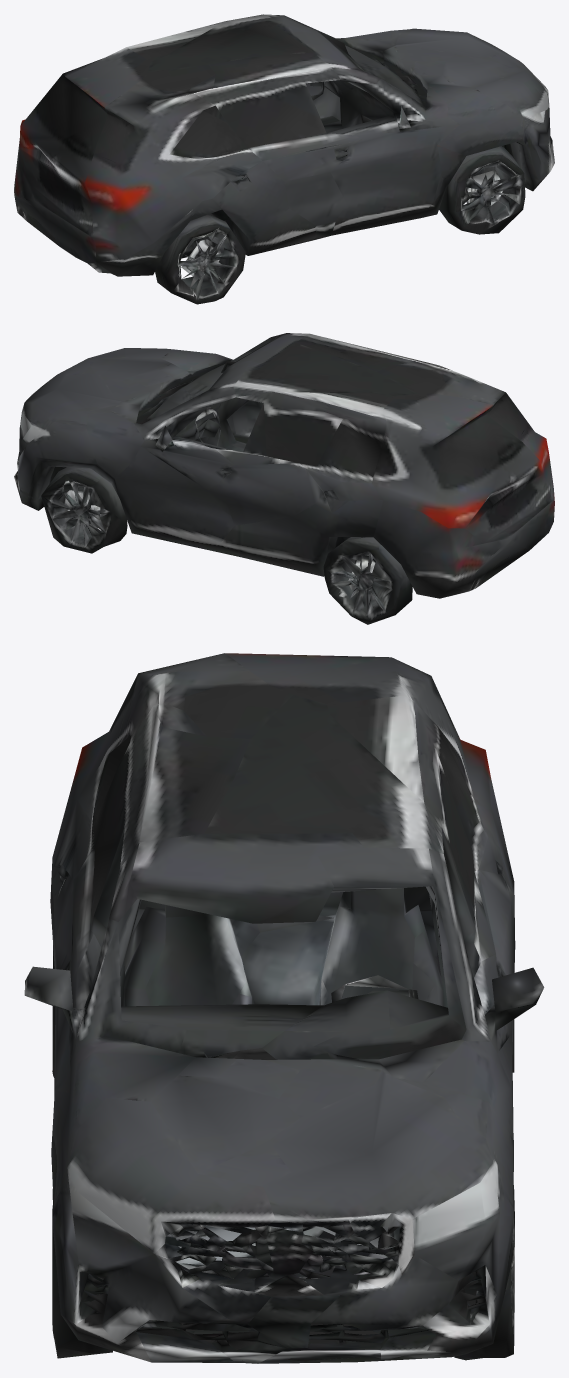
The model's file is car-suv-lod.glb.
3 views of the same model, one above another, from view 1: azimuth 30°, elevation 25°; view 2: azimuth 150°, elevation 25°; view 3: azimuth 270°, elevation 25° (orthographic). The views are drawn at different scales.
Visible parts, largest first — view 1: tripo_node_dad4ae34-9917-4c7d-b655-1cde7af19d59; view 2: tripo_node_dad4ae34-9917-4c7d-b655-1cde7af19d59; view 3: tripo_node_dad4ae34-9917-4c7d-b655-1cde7af19d59.
Part boxes in pixels (x1,y1,x2,y2): tripo_node_dad4ae34-9917-4c7d-b655-1cde7af19d59: [14, 14, 554, 304]; tripo_node_dad4ae34-9917-4c7d-b655-1cde7af19d59: [14, 333, 554, 624]; tripo_node_dad4ae34-9917-4c7d-b655-1cde7af19d59: [24, 653, 544, 1363].
Size of the model in its own units: 0.9969 by 0.3879 by 0.4696.
1 material, 1 textured.
